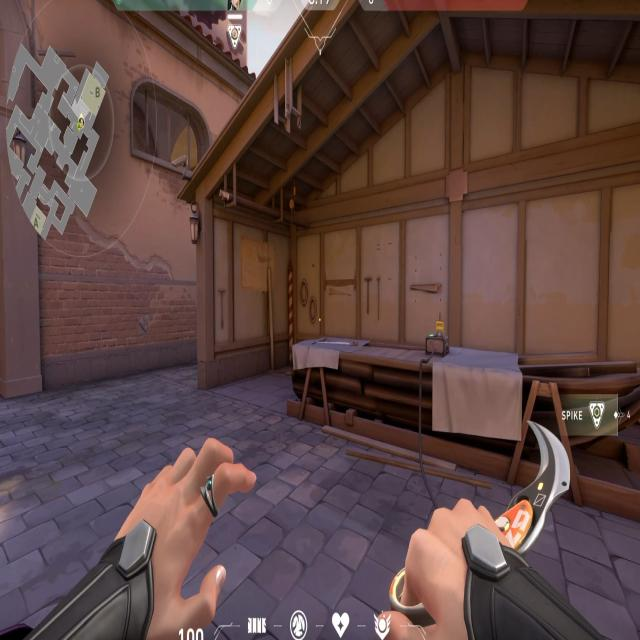B_Garage_Left: (192, 190, 448, 470)
Throwables: (129, 74, 215, 193)
